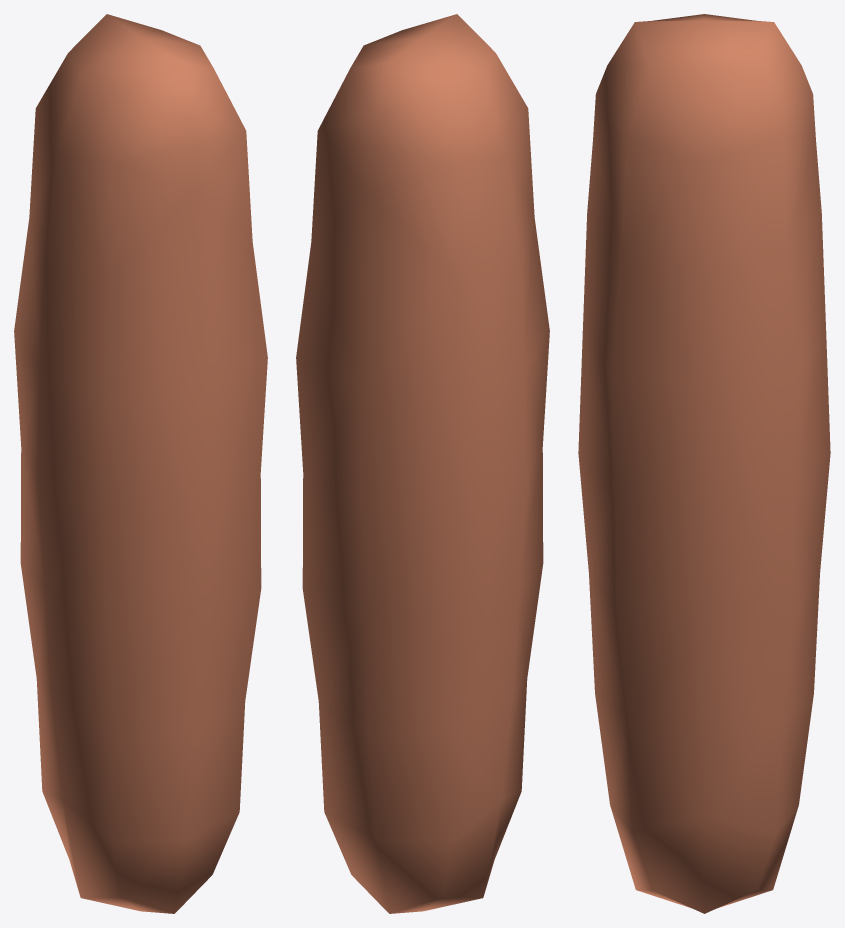
Rendered from lower_leg.dae.
3 views of the same model, side by side, from view 1: azimuth 30°, elevation 25°; view 2: azimuth 150°, elevation 25°; view 3: azimuth 270°, elevation 25° (orthographic). The views are drawn at different scales.
Parts seen in each view (by area): view 1: Plane; view 2: Plane; view 3: Plane.
Part boxes in pixels (<box>): Plane: <box>14,14,267,913</box>; Plane: <box>296,14,549,913</box>; Plane: <box>578,14,830,913</box>.
Bounding box in the file's own units: 0.2514 × 0.2606 × 1.02.
